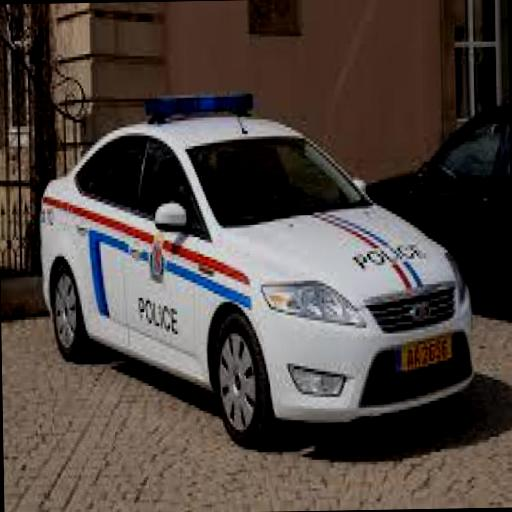Ambulance: (38, 88, 479, 454)
